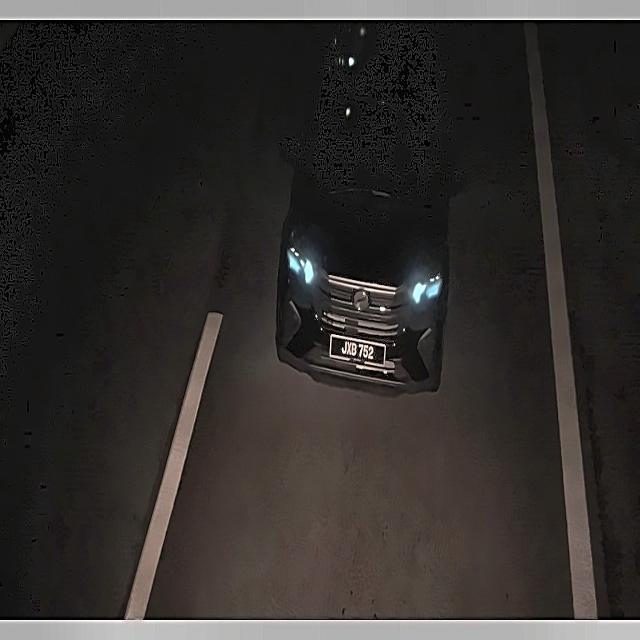car: (325, 325, 395, 375)
